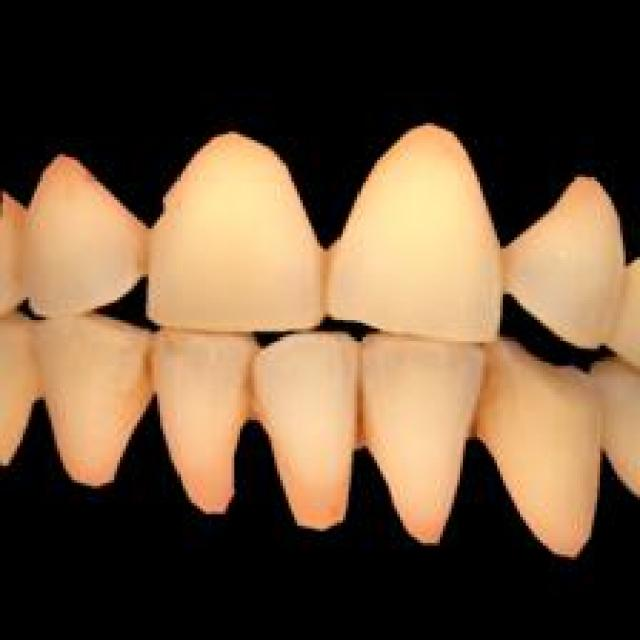cavity: (237, 351, 263, 420), (348, 368, 368, 443), (312, 246, 337, 303), (466, 372, 488, 432), (132, 223, 157, 268), (137, 346, 157, 397)
tooth: (334, 114, 506, 346), (146, 128, 323, 328), (363, 326, 483, 548), (486, 337, 606, 557), (260, 326, 374, 528), (503, 163, 623, 346), (28, 311, 152, 486), (154, 323, 260, 511), (23, 152, 140, 317)
